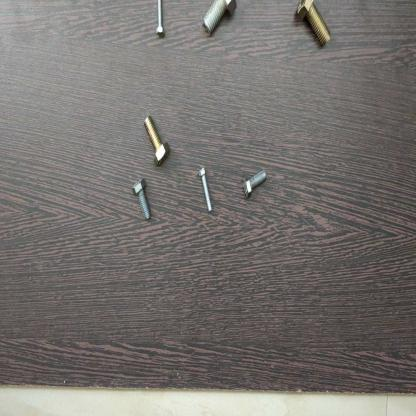Bolts: (142, 105, 174, 175), (291, 0, 334, 52), (201, 0, 239, 46), (126, 170, 152, 226), (195, 163, 215, 215), (242, 161, 268, 201), (150, 0, 168, 41)
